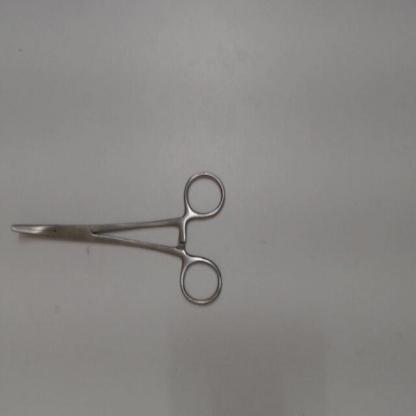Crile Artery Forceps: (6, 163, 232, 312)
